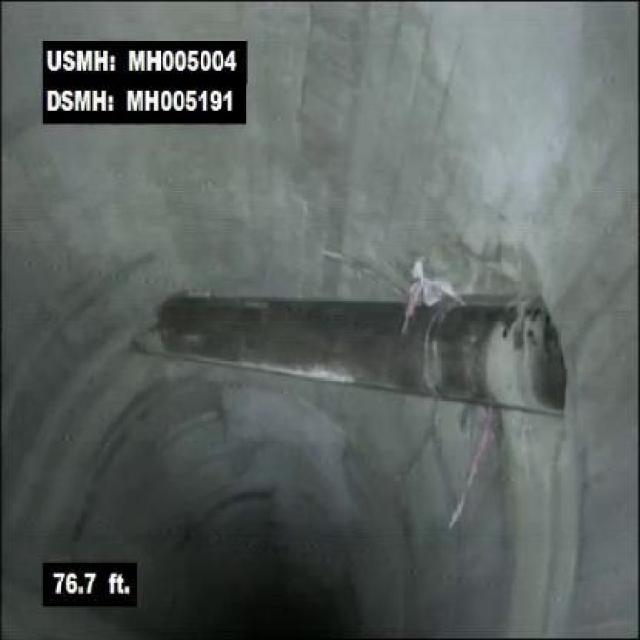Utility intrusion: (115, 266, 568, 439)
